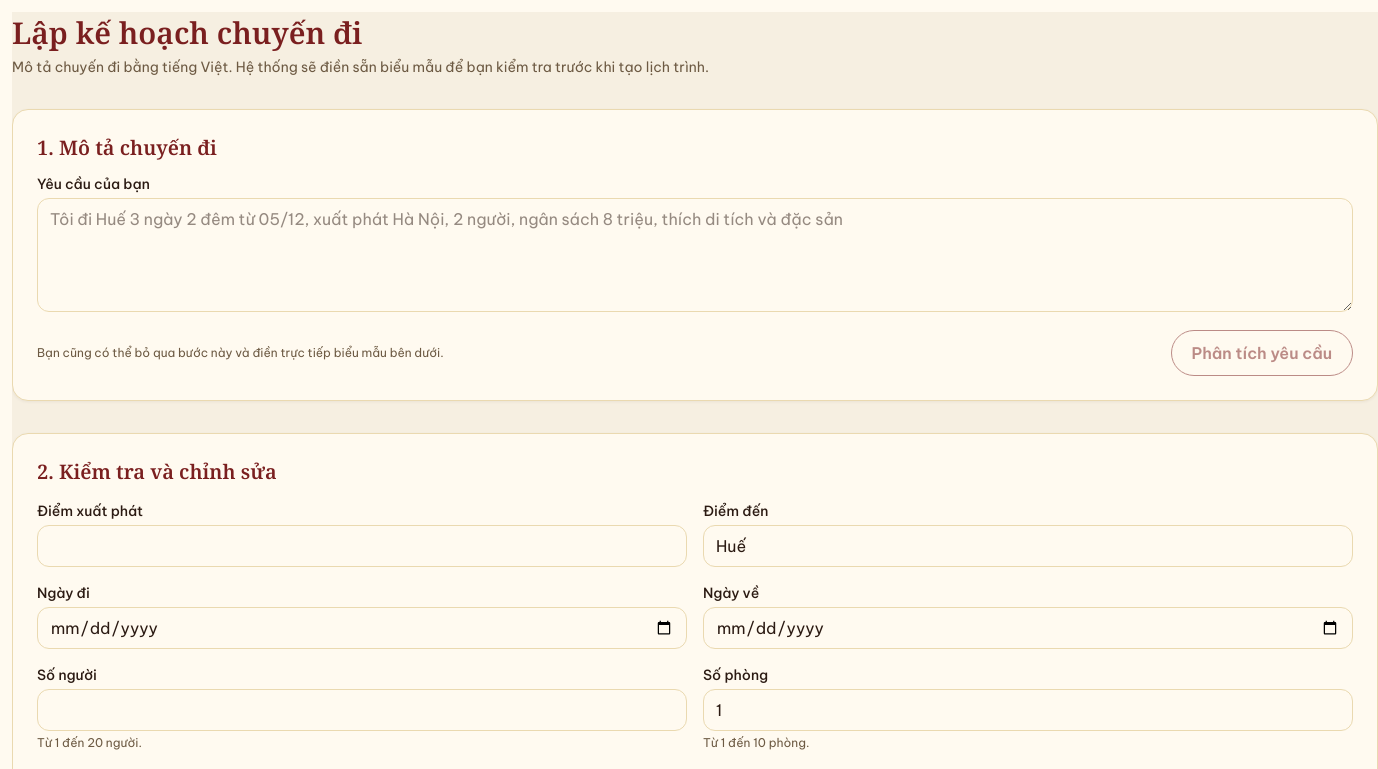
RequestPage › offers the DoD sentence as the placeholder and keeps parse disabled until there is text
Expected: the button "Phân tích yêu cầu" is disabled, [1171, 330, 1353, 376]
Type "Đi Huế" into the text box labelled "Yêu cầu của bạn". click: (695, 255)
box: [37, 198, 1353, 312]
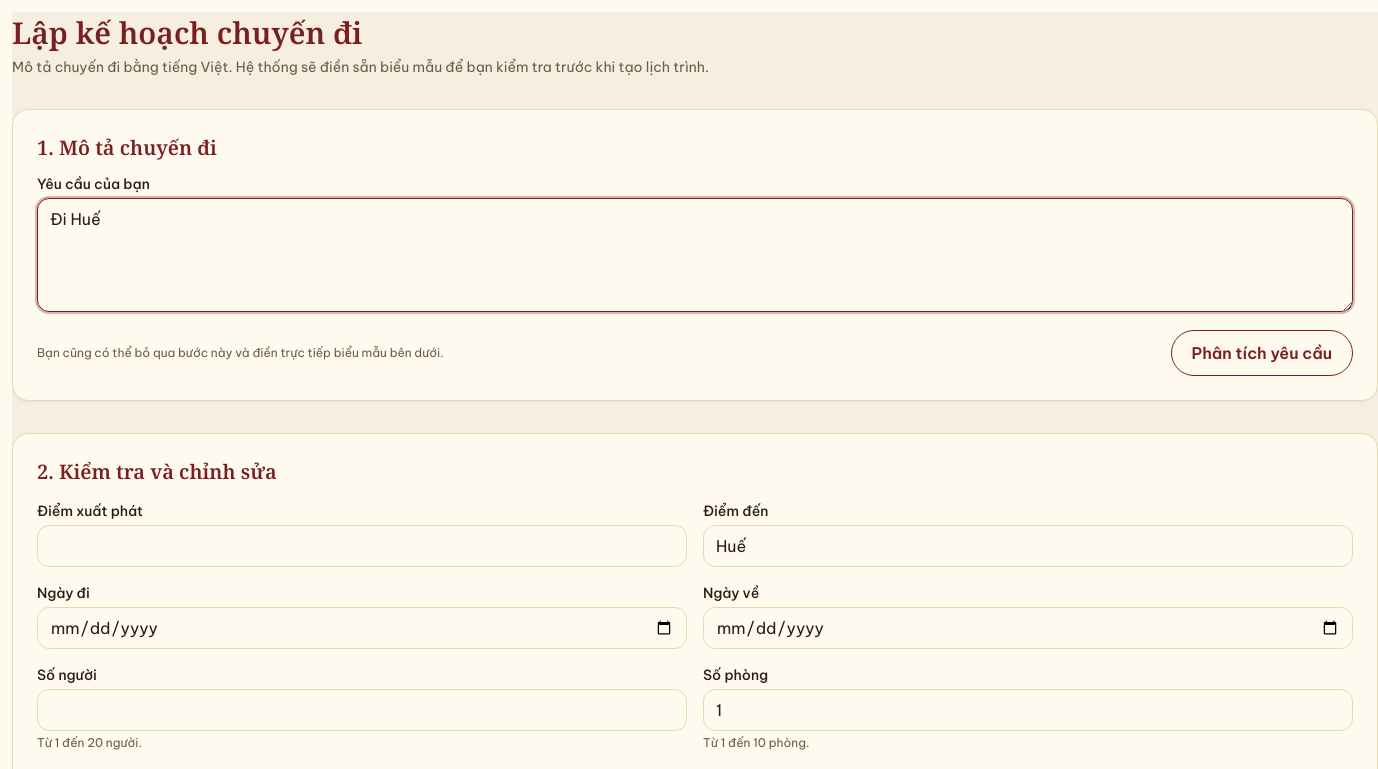
Expected: the button "Phân tích yêu cầu" is enabled, [1171, 330, 1353, 376]
